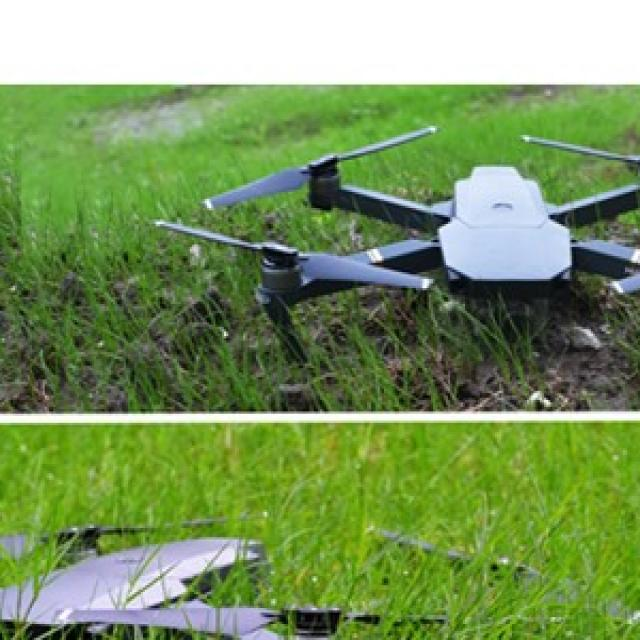drone: (175, 114, 640, 391), (0, 498, 587, 640)
